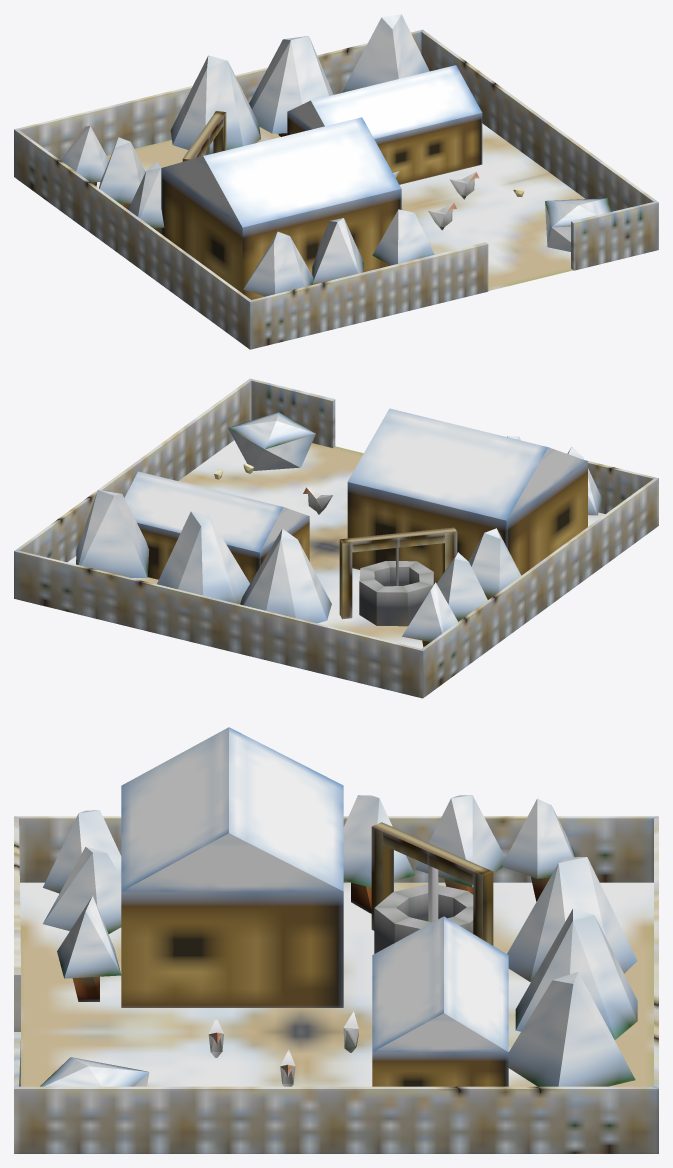
File: Poly_World_Map_Town_House_02_Snow.obj
3 renders of one model, top to bottom at view 1: azimuth 30°, elevation 25°; view 2: azimuth 150°, elevation 25°; view 3: azimuth 270°, elevation 25°, orthographic. The views are drawn at different scales.
Parts seen in each view (by area): view 1: Grid_Grid.002, Cube.001_Cube.001_Cube.001_Cube.002, Cube.002_Cube.003_Cube.002_Cube.005, Plane_Plane.002, Cube_Cube.002_Cube_Cube.005, Cube.004_Cube.005_Cube.004_Cube.002, chickens_Cube.002; view 2: Grid_Grid.002, Cube.002_Cube.003_Cube.002_Cube.005, Cube.001_Cube.001_Cube.001_Cube.002, Plane_Plane.002, Cube_Cube.002_Cube_Cube.005, Cube.003_Cube.004_Cube.003_Cube.002, Cube.004_Cube.005_Cube.004_Cube.002; view 3: Grid_Grid.002, Cube.002_Cube.003_Cube.002_Cube.005, Cube.001_Cube.001_Cube.001_Cube.002, Plane_Plane.002, Cube_Cube.002_Cube_Cube.005, Cube.004_Cube.005_Cube.004_Cube.002, Cube.003_Cube.004_Cube.003_Cube.002, chickens_Cube.002.
Part boxes in pixels (bbox=[...]): Grid_Grid.002: bbox=[14, 29, 658, 349]; Cube.001_Cube.001_Cube.001_Cube.002: bbox=[61, 14, 610, 296]; Cube.002_Cube.003_Cube.002_Cube.005: bbox=[161, 117, 401, 299]; Plane_Plane.002: bbox=[96, 123, 584, 290]; Cube_Cube.002_Cube_Cube.005: bbox=[287, 65, 482, 184]; Cube.004_Cube.005_Cube.004_Cube.002: bbox=[182, 111, 226, 161]; chickens_Cube.002: bbox=[393, 171, 479, 230]; Grid_Grid.002: bbox=[14, 378, 658, 698]; Cube.002_Cube.003_Cube.002_Cube.005: bbox=[347, 408, 587, 584]; Cube.001_Cube.001_Cube.001_Cube.002: bbox=[76, 412, 602, 647]; Plane_Plane.002: bbox=[67, 440, 604, 648]; Cube_Cube.002_Cube_Cube.005: bbox=[124, 471, 309, 583]; Cube.003_Cube.004_Cube.003_Cube.002: bbox=[359, 561, 433, 626]; Cube.004_Cube.005_Cube.004_Cube.002: bbox=[339, 527, 457, 619]; Grid_Grid.002: bbox=[14, 816, 658, 1153]; Cube.002_Cube.003_Cube.002_Cube.005: bbox=[121, 727, 343, 1007]; Cube.001_Cube.001_Cube.001_Cube.002: bbox=[40, 795, 637, 1086]; Plane_Plane.002: bbox=[20, 882, 653, 1086]; Cube_Cube.002_Cube_Cube.005: bbox=[372, 916, 508, 1086]; Cube.004_Cube.005_Cube.004_Cube.002: bbox=[371, 822, 493, 945]; Cube.003_Cube.004_Cube.003_Cube.002: bbox=[374, 884, 473, 953]; chickens_Cube.002: bbox=[208, 1011, 358, 1086].
Size of the model in its own units: 0.9 by 0.28 by 0.9.
1 material, 1 textured.
